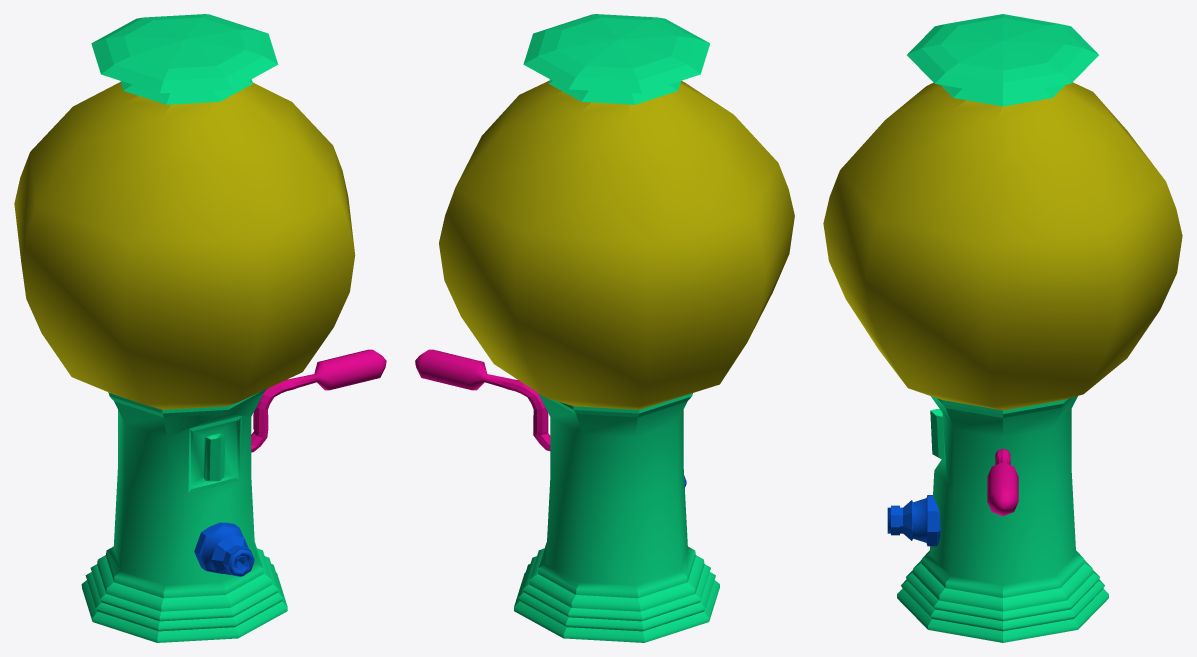
The model's file is maquinadechicles2.fbx.
The picture shows the model from 3 angles, left to right: view 1: azimuth 30°, elevation 25°; view 2: azimuth 150°, elevation 25°; view 3: azimuth 270°, elevation 25°; orthographic projection.
Parts seen in each view (by area): view 1: MaquinaDeChiclesShape, Palanca, pCylinder5; view 2: MaquinaDeChiclesShape, Palanca; view 3: MaquinaDeChiclesShape, pCylinder5, Palanca.
Part boxes in pixels (x1,y1,x2,y2): MaquinaDeChiclesShape: [14, 14, 355, 642]; Palanca: [251, 349, 386, 452]; pCylinder5: [194, 522, 254, 576]; MaquinaDeChiclesShape: [439, 14, 794, 642]; Palanca: [415, 349, 550, 450]; MaquinaDeChiclesShape: [823, 14, 1182, 642]; pCylinder5: [887, 495, 940, 546]; Palanca: [987, 448, 1018, 515].
Size of the model in its own units: 4.5 by 6.72 by 3.93.
